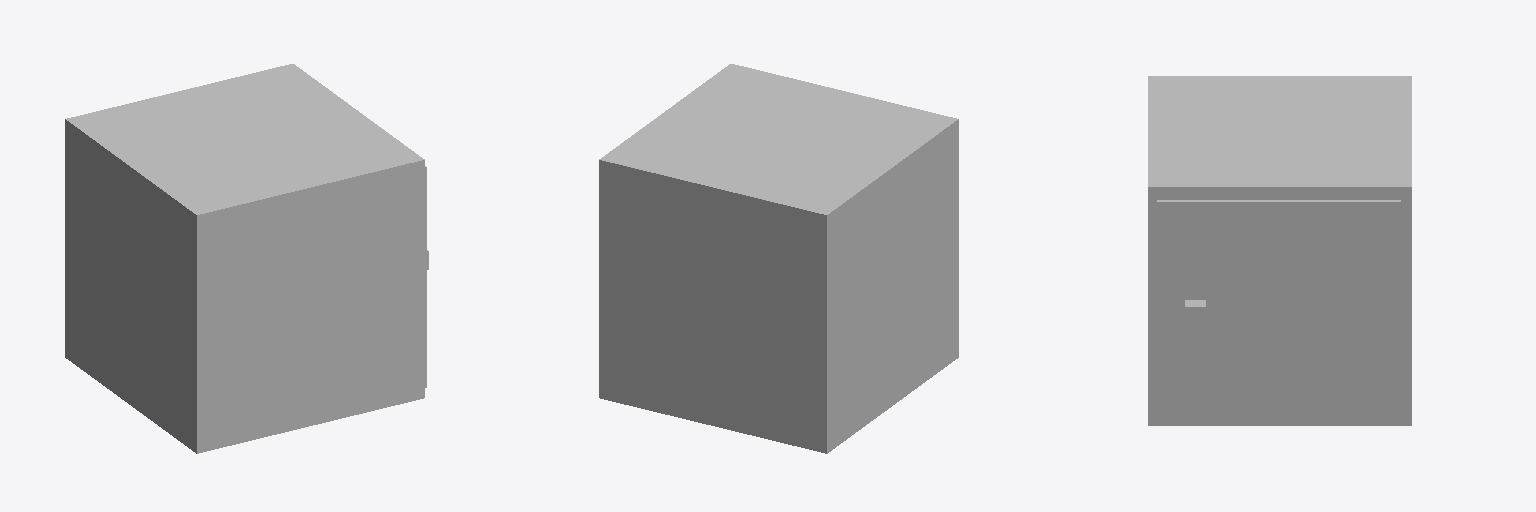
File: cooking_firebox_close.obj
The picture shows the model from 3 angles: view 1: azimuth 30°, elevation 25°; view 2: azimuth 150°, elevation 25°; view 3: azimuth 270°, elevation 25°; orthographic projection.
Parts seen in each view (by area): view 1: Box_Cube.001; view 2: Box_Cube.001; view 3: Door_Cube.002, Box_Cube.001, Button_Cube.003.
Boxes of the visible parts, <box> form: Box_Cube.001: <box>65,64,424,453</box>; Box_Cube.001: <box>599,64,958,453</box>; Door_Cube.002: <box>1157,200,1400,421</box>; Box_Cube.001: <box>1148,76,1411,425</box>; Button_Cube.003: <box>1185,300,1205,326</box>.
Size of the model in its own units: 1.1 by 1 by 1.